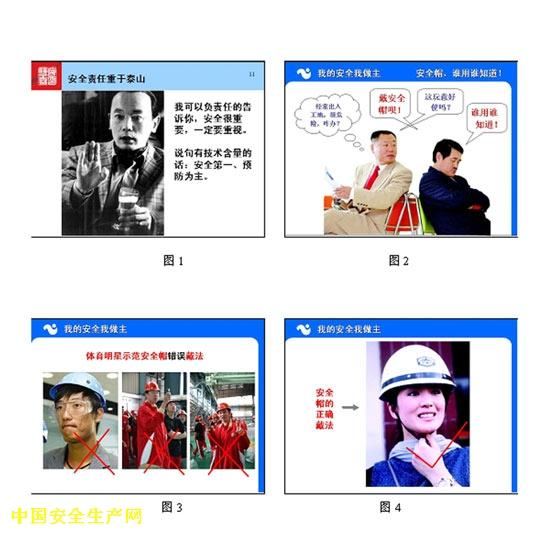helmet: (383, 347, 455, 397), (48, 372, 110, 407), (145, 382, 162, 396), (217, 403, 232, 416), (178, 411, 186, 417), (195, 416, 200, 421), (200, 419, 203, 422)
